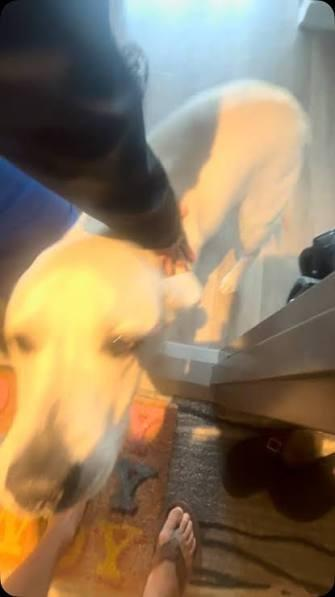adult_dog: (0, 77, 312, 522)
